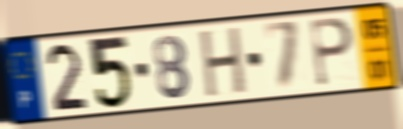2: (44, 42, 90, 115)
5: (85, 33, 135, 111)
7: (260, 21, 302, 95)
8: (152, 33, 192, 102)
H: (199, 24, 248, 101)
P: (308, 16, 355, 90)
